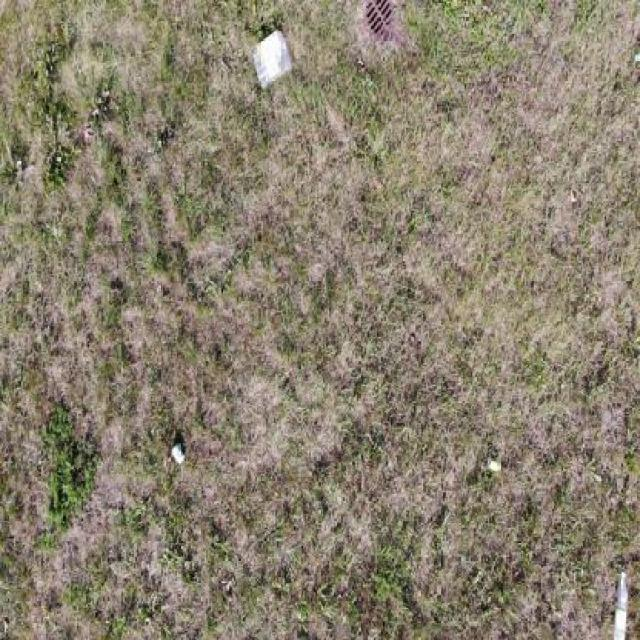Garbage: (252, 28, 293, 93), (614, 573, 629, 640), (170, 441, 185, 465), (488, 457, 500, 473), (635, 51, 640, 60)
